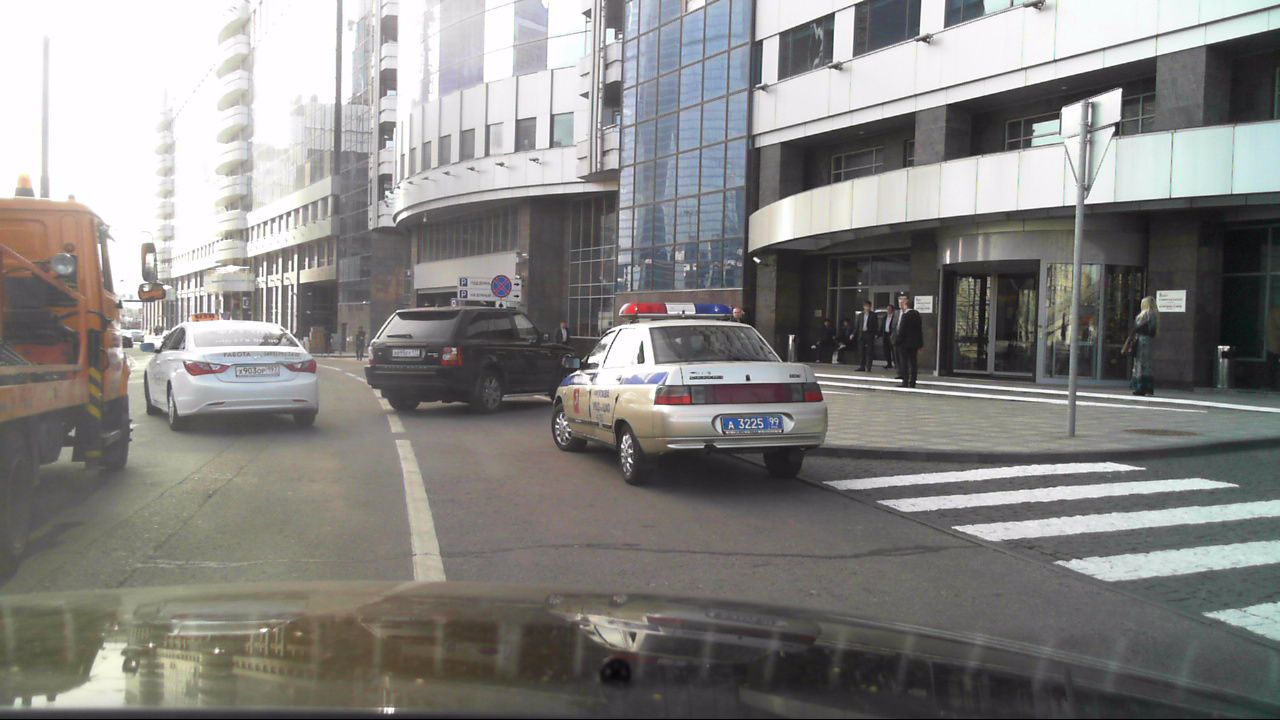No Parking: (490, 274, 512, 298)
